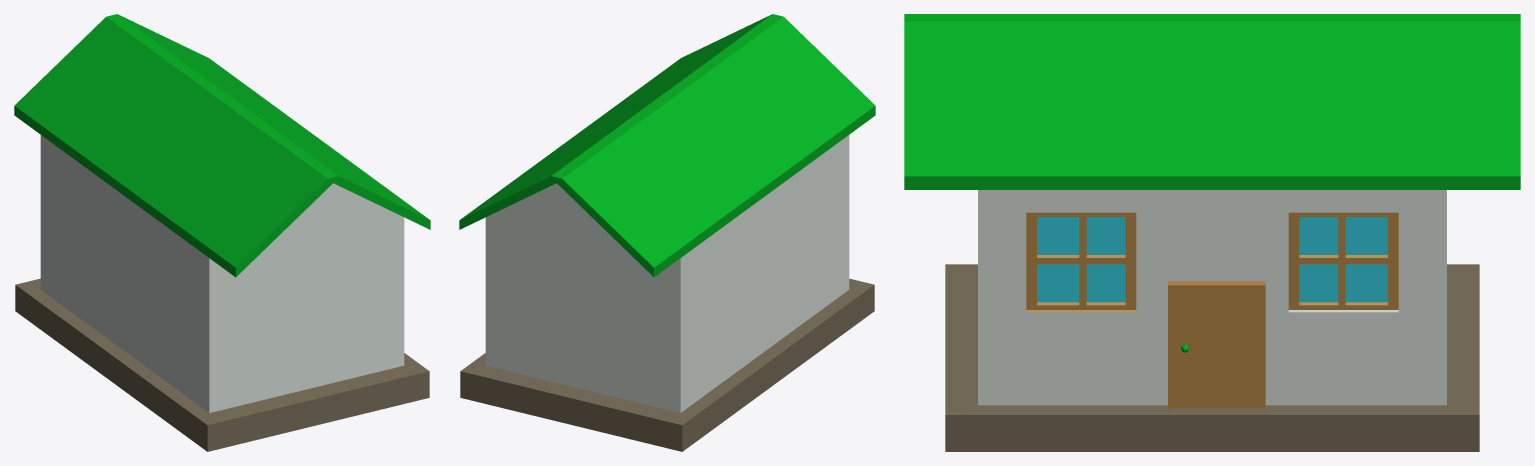
File: house2.fbx
3 views of the same model, side by side, from view 1: azimuth 30°, elevation 25°; view 2: azimuth 150°, elevation 25°; view 3: azimuth 270°, elevation 25° (orthographic). The views are drawn at different scales.
Parts seen in each view (by area): view 1: Cube; view 2: Cube; view 3: Cube.
Boxes of the visible parts, x1=… form: Cube: x1=14, y1=14, x2=430, y2=451; Cube: x1=459, y1=14, x2=875, y2=451; Cube: x1=904, y1=14, x2=1520, y2=451.
Size of the model in its own units: 456 by 507 by 788.
